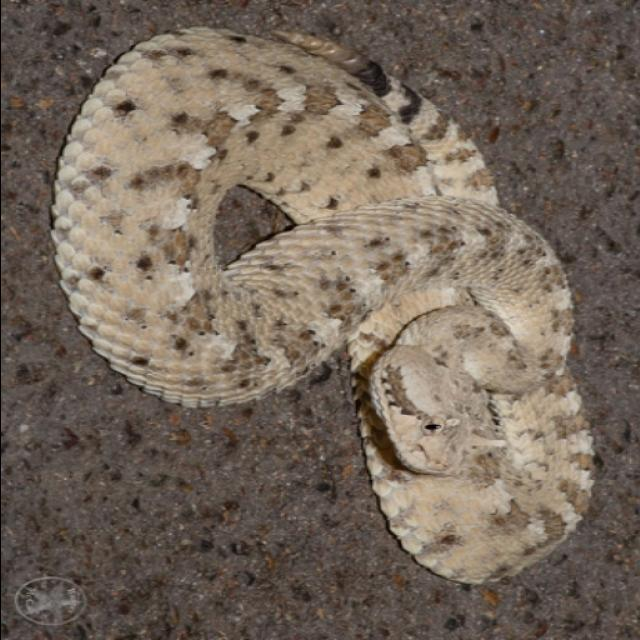snake: (41, 23, 604, 588)
